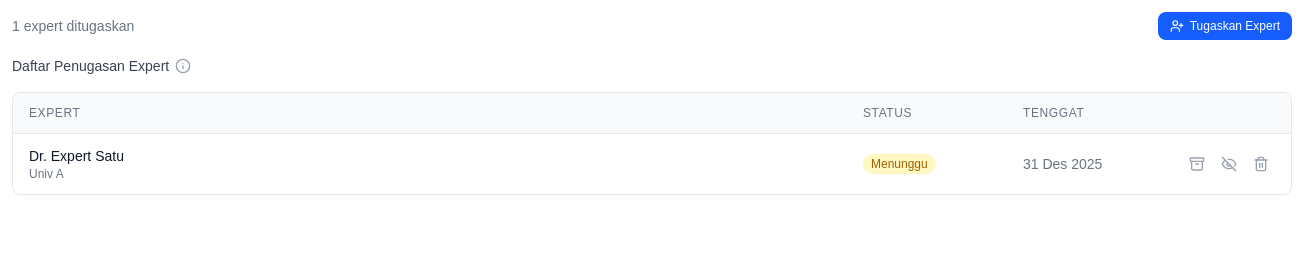
AssignmentManager › harus menampilkan error saat penghapusan assignment gagal
Click the button titled "Hapus assignment" at (1261, 164), box [1247,150,1275,178]
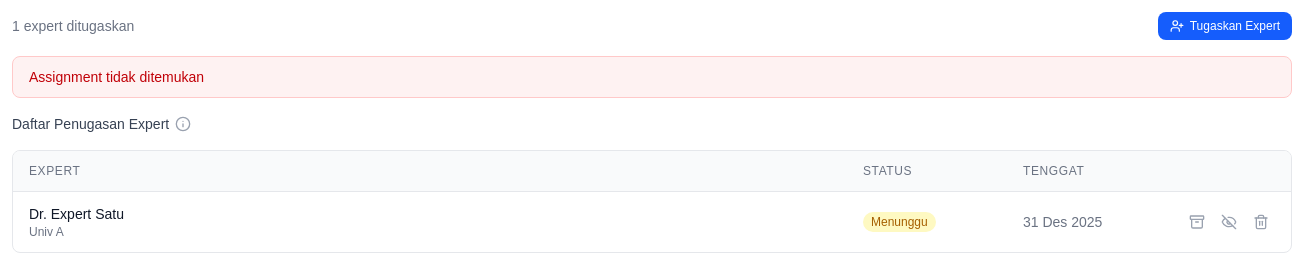
Check: the text "Assignment tidak ditemukan" is shown, box [12,56,1292,98]
